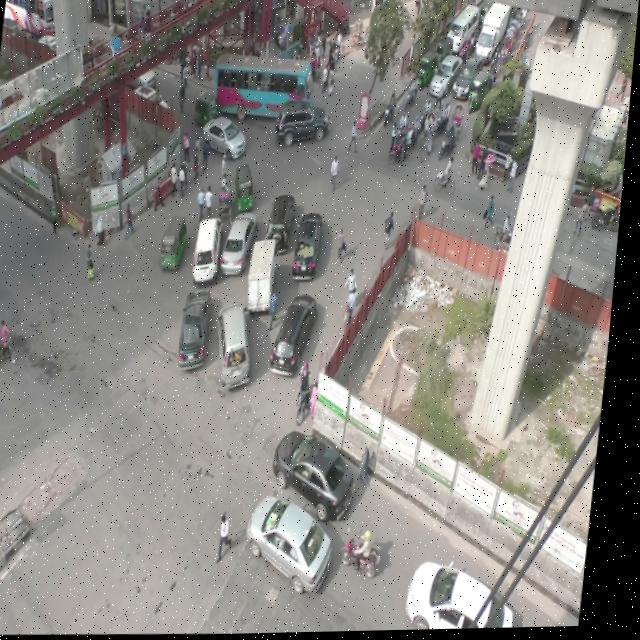cng: (162, 212, 194, 280), (235, 162, 260, 212), (433, 36, 456, 74), (469, 73, 488, 112), (416, 55, 435, 92)
rikshaw: (0, 320, 28, 373), (422, 113, 440, 165), (350, 17, 373, 51), (448, 105, 467, 144), (220, 180, 237, 222), (501, 31, 517, 68), (309, 48, 324, 80)
